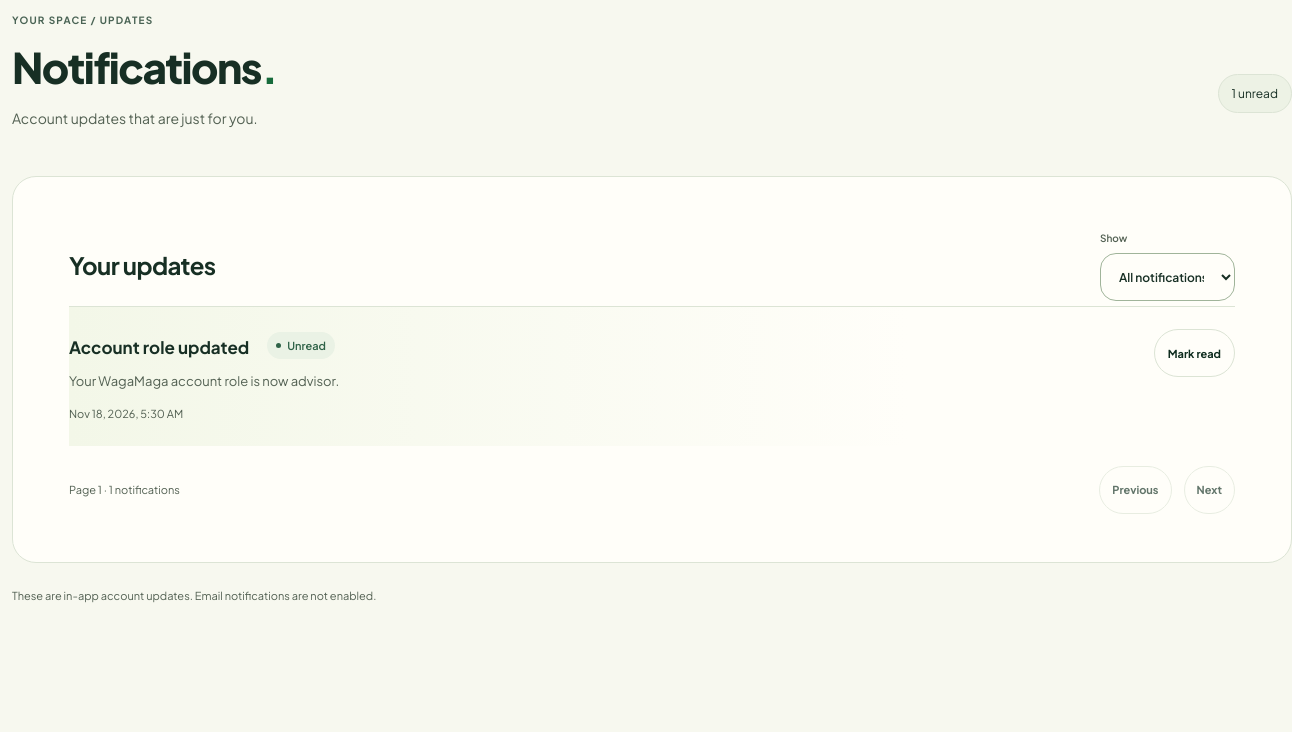
Test: shows a private account update and lets its recipient mark it read
Check: the text "Your WagaMaga account role is now advisor." is shown, box x1=69 y1=370 x2=339 y2=392
Check: the text "1 unread" is shown, box x1=1218 y1=74 x2=1291 y2=113
Click the button "Mark read": x=1194, y=354 x1=1154 y1=330 x2=1235 y2=378
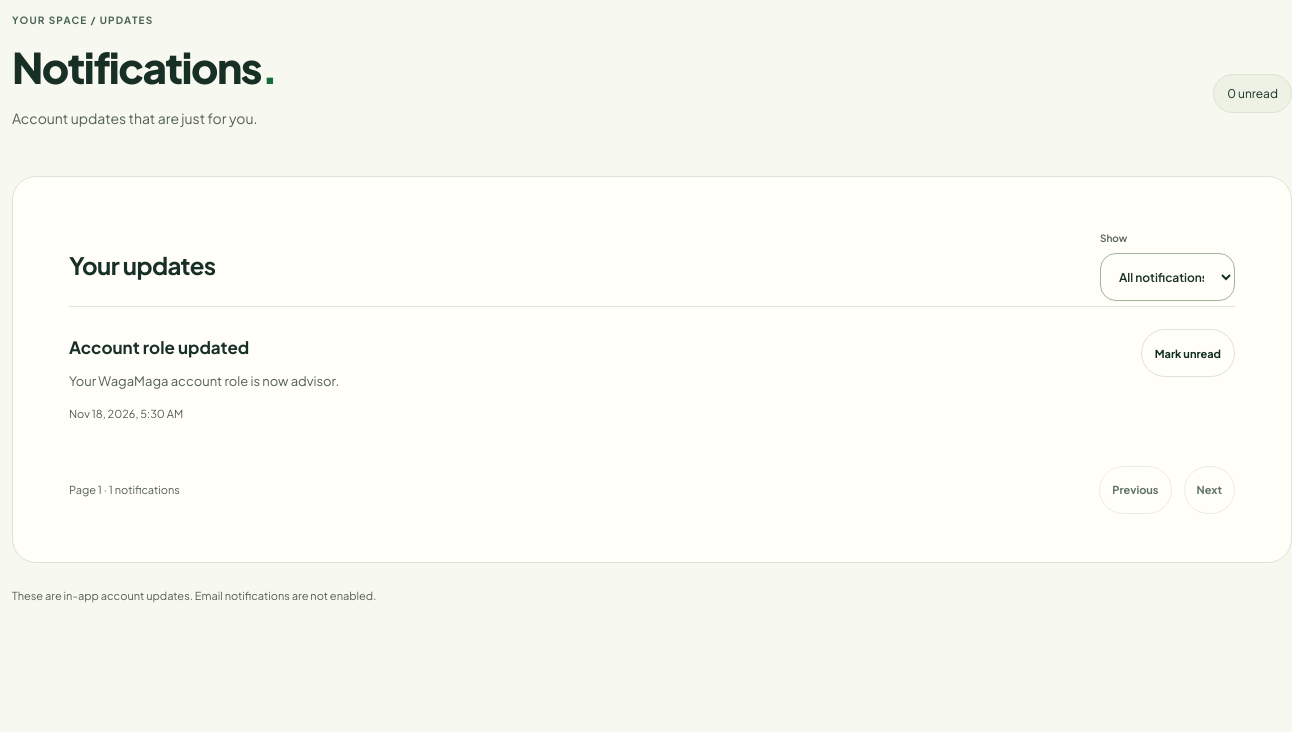
Check: the button "Mark unread" is shown, box x1=1141 y1=330 x2=1235 y2=378
Check: the text "0 unread" is shown, box x1=1213 y1=74 x2=1291 y2=113
